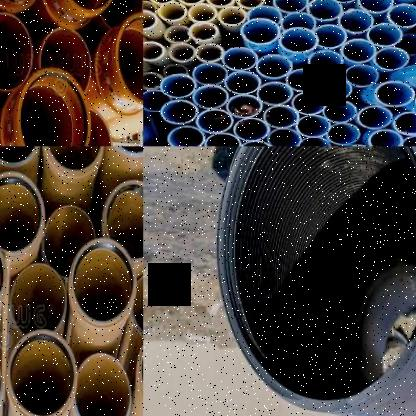pipe: (215, 146, 416, 410), (6, 329, 78, 416), (69, 238, 137, 330), (17, 68, 90, 146), (10, 264, 66, 336), (0, 172, 45, 260), (43, 205, 97, 278), (73, 353, 131, 416), (102, 180, 144, 266), (40, 28, 91, 94), (116, 12, 143, 106), (0, 12, 32, 90), (43, 146, 104, 179), (68, 108, 112, 146), (99, 0, 143, 28), (374, 80, 416, 107), (278, 27, 320, 53), (240, 18, 279, 44), (0, 146, 42, 168), (58, 0, 119, 15), (196, 109, 234, 133), (338, 9, 374, 34), (160, 100, 197, 124), (256, 54, 293, 78), (234, 118, 270, 142), (367, 22, 403, 46), (131, 268, 143, 340), (226, 95, 263, 118), (161, 74, 196, 98), (341, 38, 376, 62), (263, 105, 299, 128), (257, 82, 293, 105), (192, 86, 229, 108), (357, 106, 392, 129), (292, 92, 327, 115), (308, 50, 343, 73), (317, 78, 353, 100), (167, 126, 206, 146), (296, 115, 331, 137), (322, 100, 357, 122), (286, 69, 321, 91), (344, 65, 379, 87), (223, 48, 258, 70), (374, 48, 409, 70), (315, 24, 347, 48), (193, 63, 228, 84), (327, 123, 360, 145), (307, 0, 343, 20), (0, 234, 8, 321), (247, 5, 283, 24), (388, 3, 416, 27), (280, 12, 317, 30), (143, 90, 173, 112), (188, 22, 220, 42), (268, 128, 302, 146), (368, 130, 403, 146), (393, 111, 416, 135), (169, 43, 196, 63), (188, 4, 218, 22), (218, 7, 246, 26), (392, 34, 416, 56), (196, 44, 224, 62), (158, 2, 186, 20), (204, 133, 241, 146), (359, 0, 394, 13), (273, 0, 308, 13), (164, 26, 190, 43), (143, 42, 166, 60), (143, 72, 163, 89), (163, 64, 188, 76), (298, 137, 331, 146), (143, 10, 156, 30), (236, 0, 265, 8), (143, 1, 157, 14), (205, 0, 235, 6), (238, 141, 273, 146), (400, 136, 416, 146), (178, 0, 205, 4), (147, 0, 177, 3)
